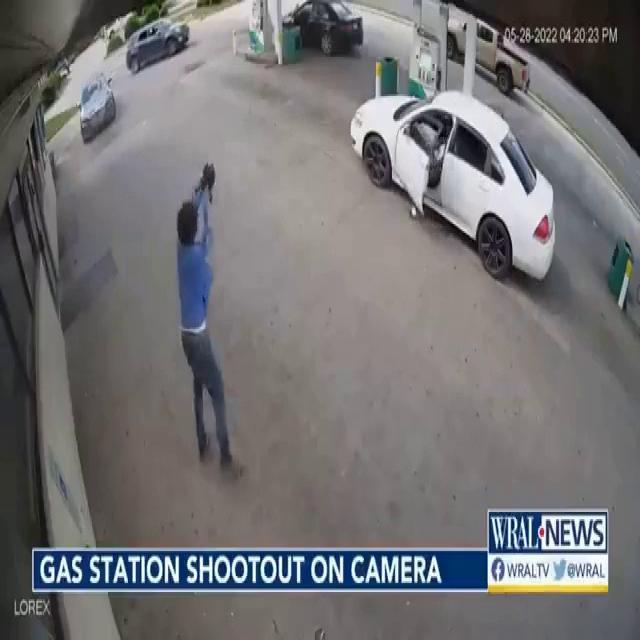penembakan: (169, 162, 246, 474)
